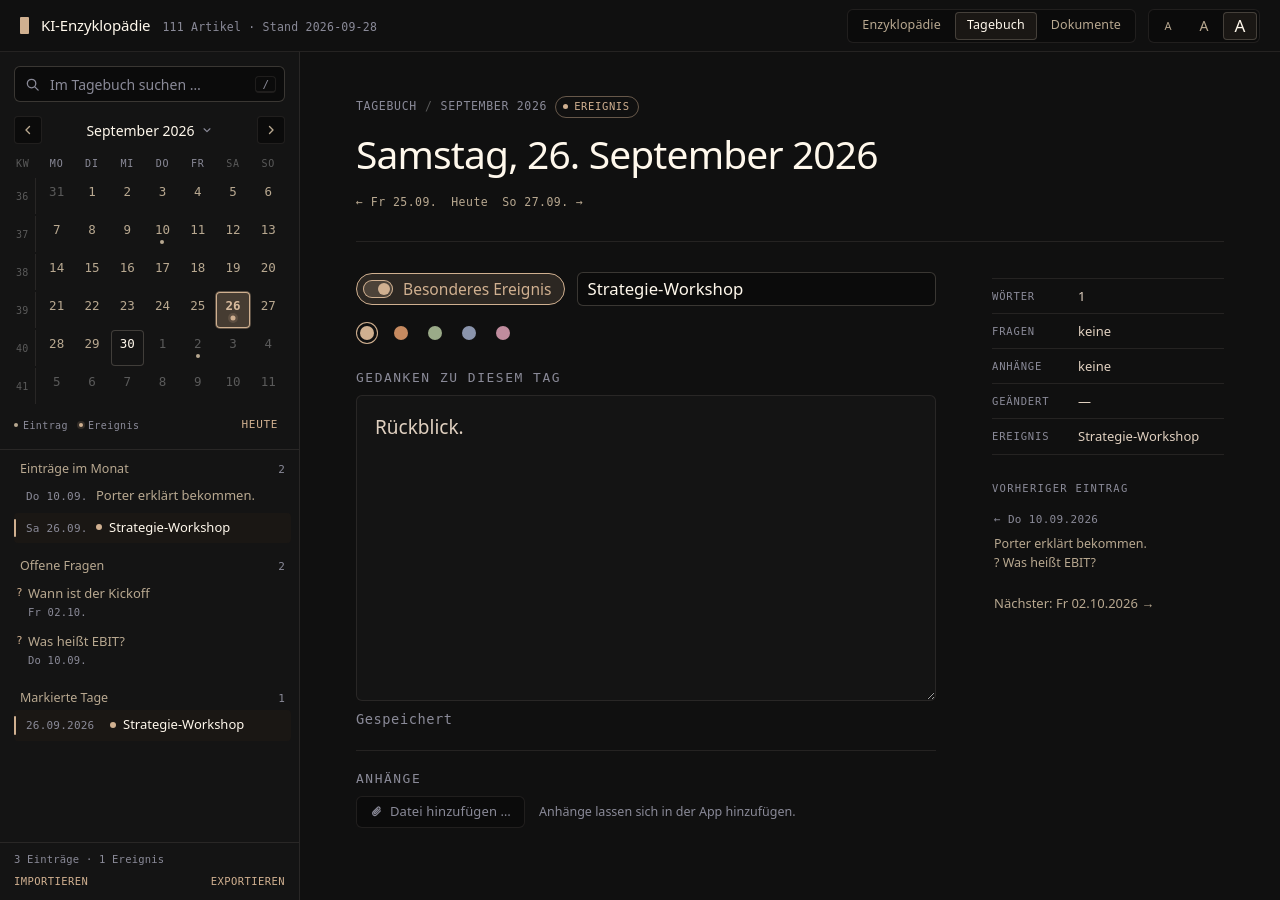
Test: Tagebuch › zeigt Kalenderwochen und die Jahresübersicht mit Zählern
Check: the element "Einträge im Monat" is shown, box [14,460,291,543]
Check: the text titled "Kalenderwoche 39" is shown, box [16,304,28,316]
Click the button "September 2026" at (150, 130), box [78,116,221,144]
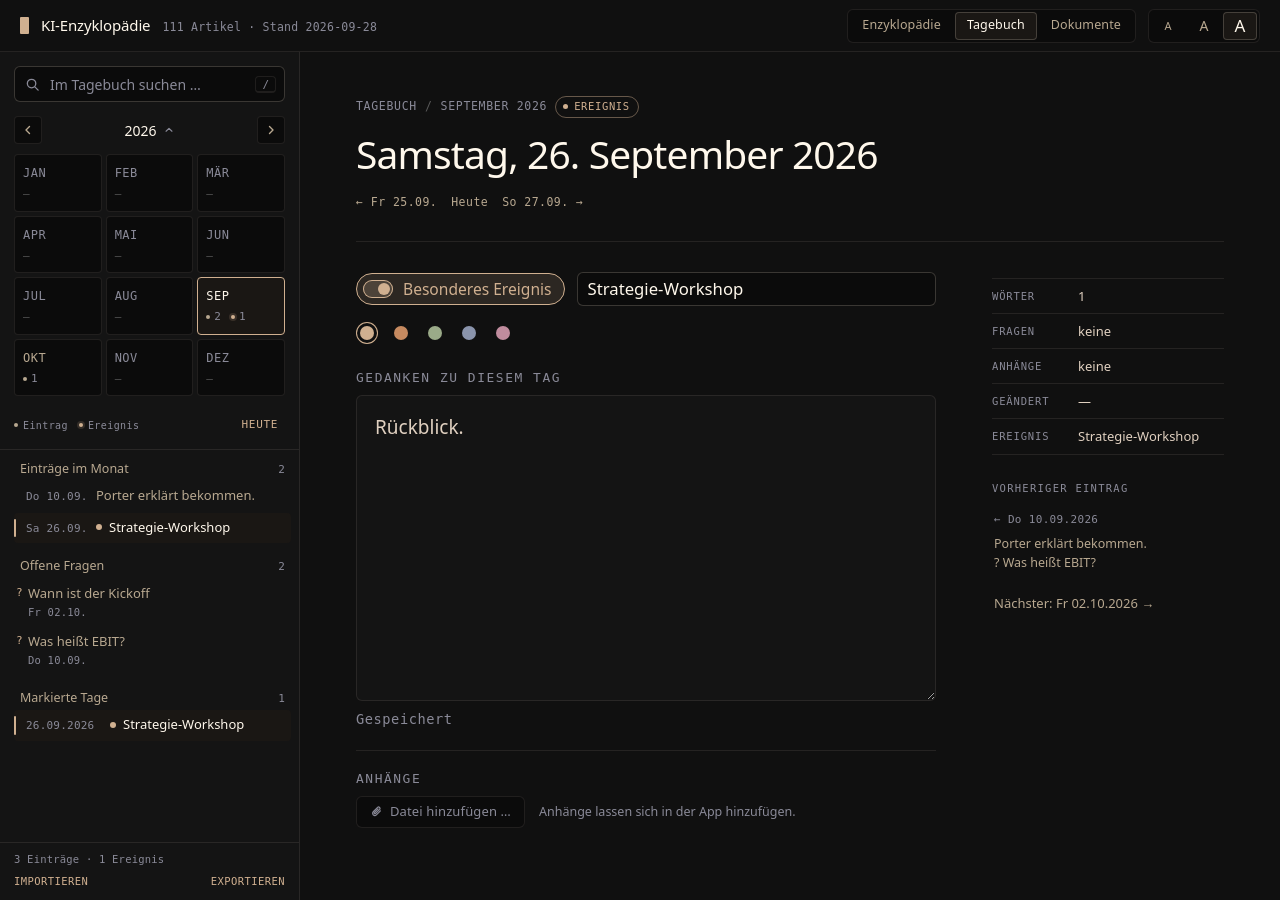
Check: the button with aria-label "September 2026: 2 Einträge, 1 Ereignisse" is shown, box [197,277,285,334]
Check: the button with aria-label "Oktober 2026: 1 Einträge, 0 Ereignisse" is shown, box [14,338,102,396]
Click the button named "Nächstes Jahr" at (271, 130), box [257,116,285,144]
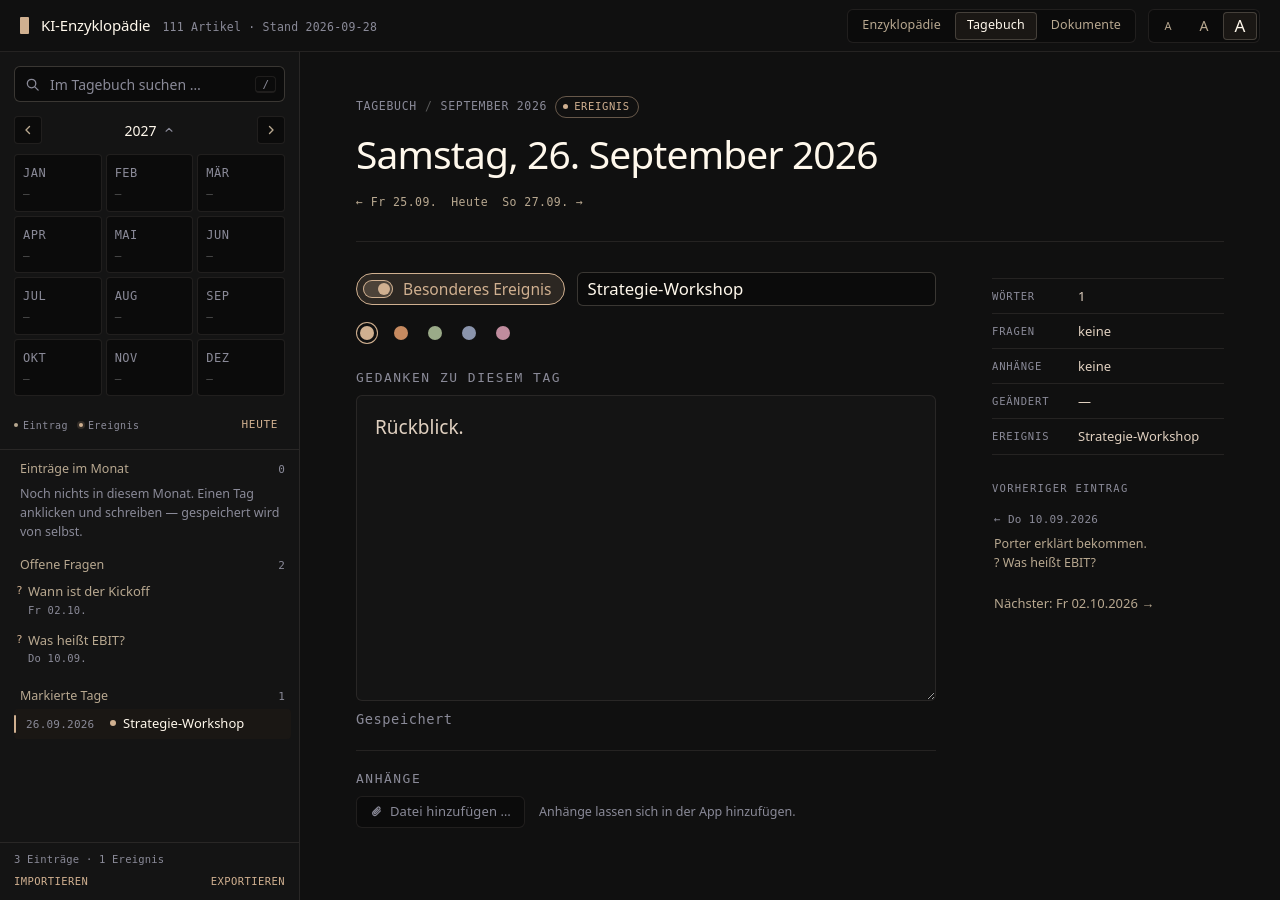
Check: the element named "Monate 2027" is shown, box [14,154,285,404]
Click the button with aria-label "Januar 2027" at (58, 183), box [14,154,102,212]
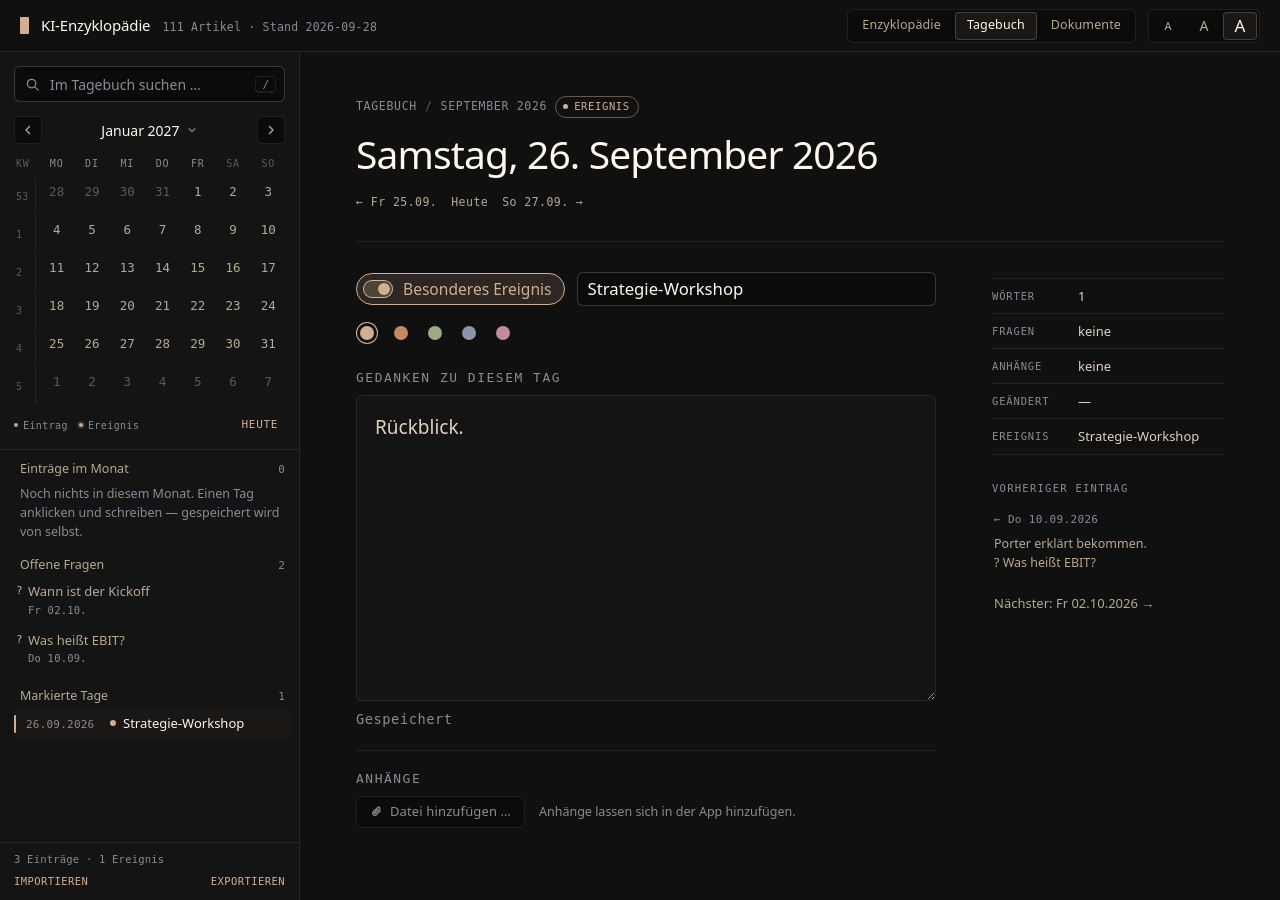
Check: the button "Januar 2027" is shown, box [93,116,206,144]
Check: the element named "Kalender" is shown, box [14,154,285,404]
